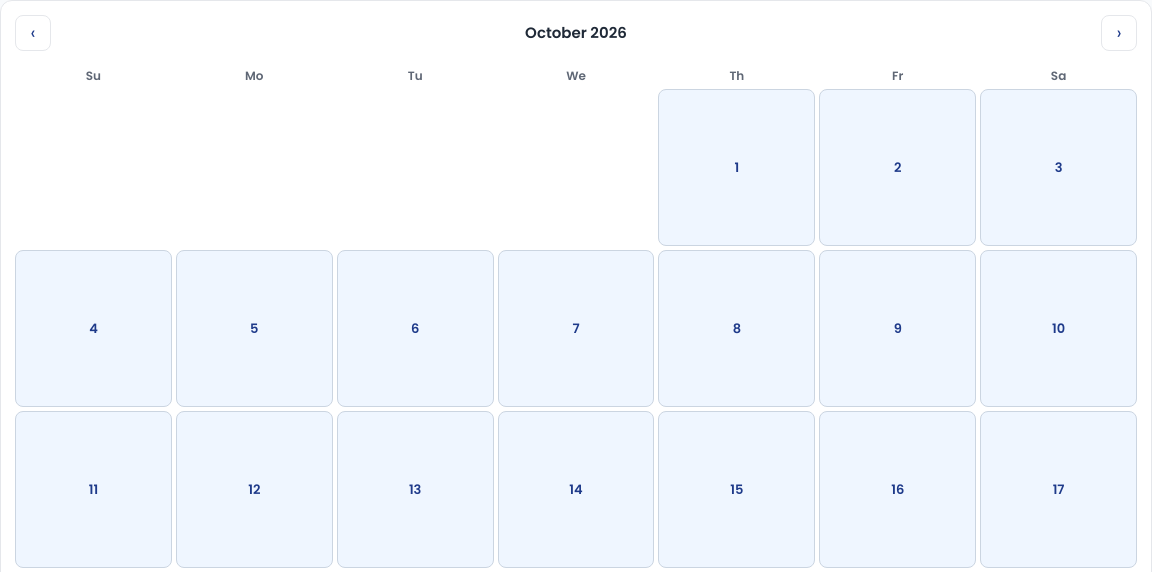
it: month navigation › moves forward and back
Click the button named "Next month" at coordinates (1119, 33), box [1101,15,1137,51]
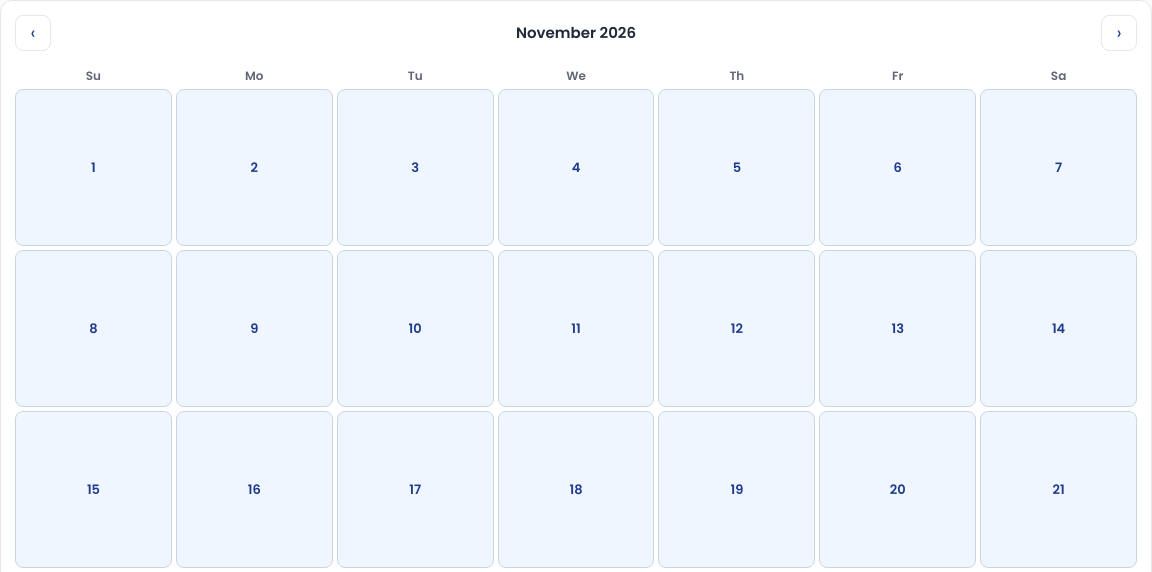
Expected: the text "November 2026" is shown, [516,22,636,44]
Click the button named "Previous month" at coordinates (33, 33), box [15,15,51,51]
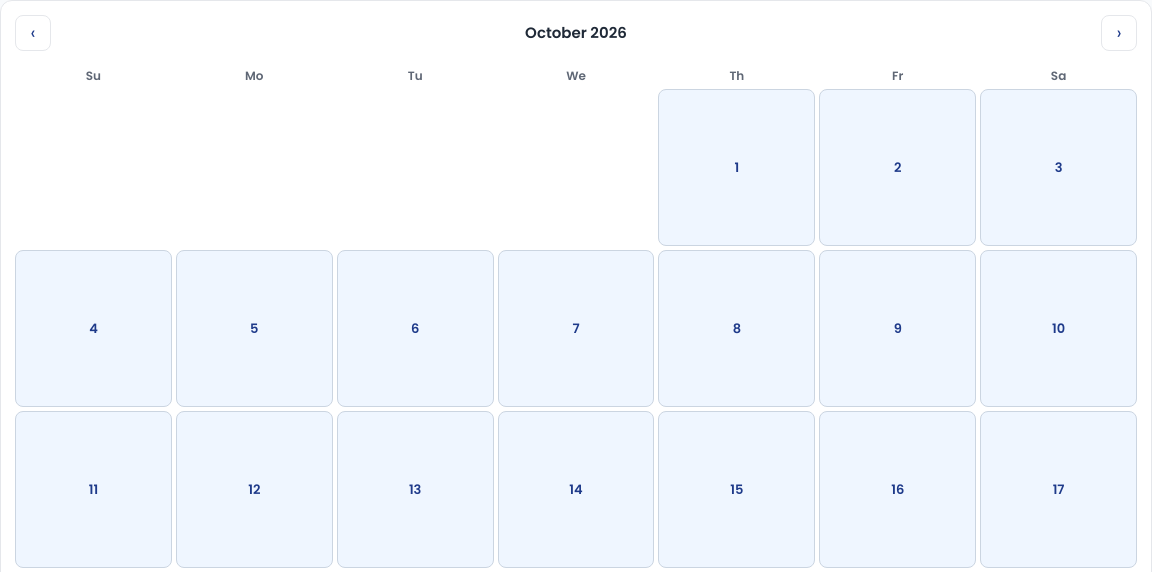
Expected: the text "October 2026" is shown, [525,22,627,44]
